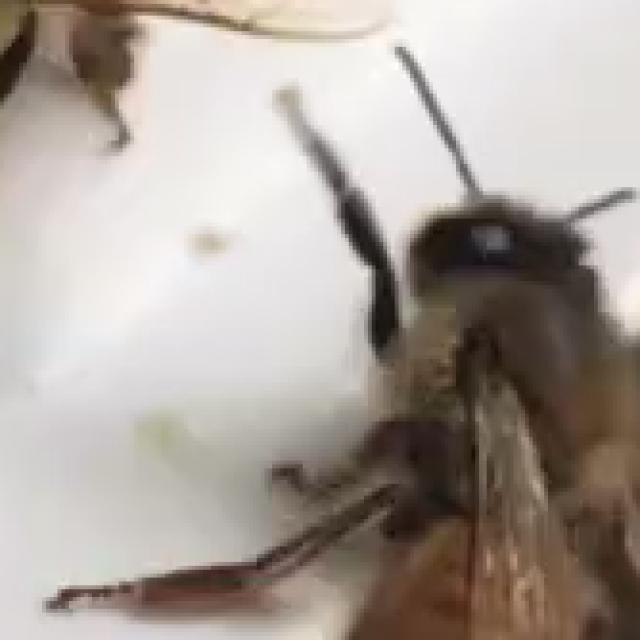honeybee: (216, 89, 640, 640)
